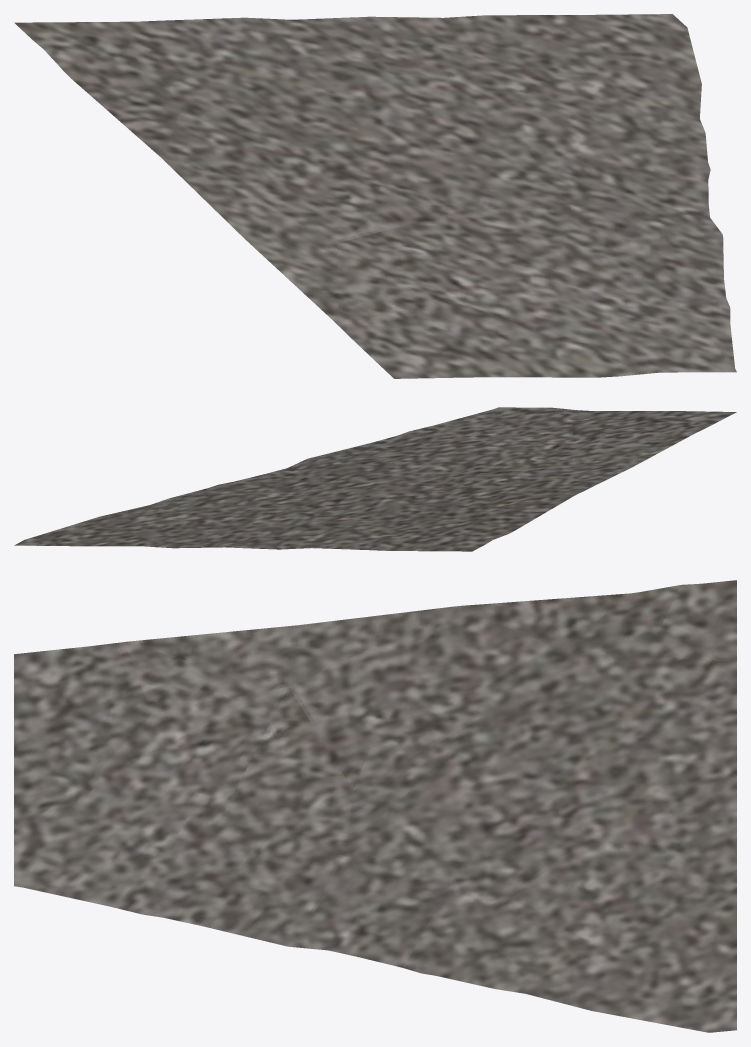
The picture shows the model from 3 angles, top to bottom: view 1: azimuth 30°, elevation 25°; view 2: azimuth 150°, elevation 25°; view 3: azimuth 270°, elevation 25°; orthographic projection. The views are drawn at different scales.
Size of the model in its own units: 0.8374 by 0.1881 by 0.8374.
Materials: 2 (2 with a texture image).
